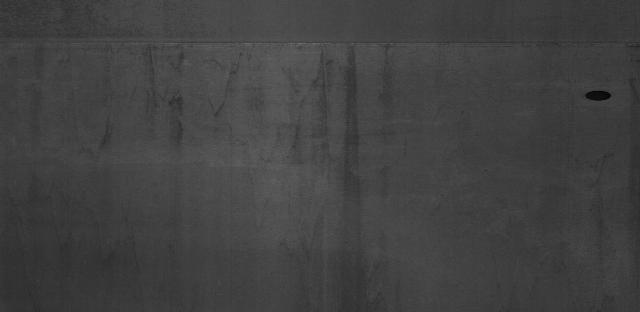punching_hole: (579, 87, 616, 103)
silk_spot: (101, 56, 390, 165), (482, 158, 618, 305), (249, 188, 411, 306), (10, 184, 146, 301)
welding_line: (8, 32, 640, 53)
